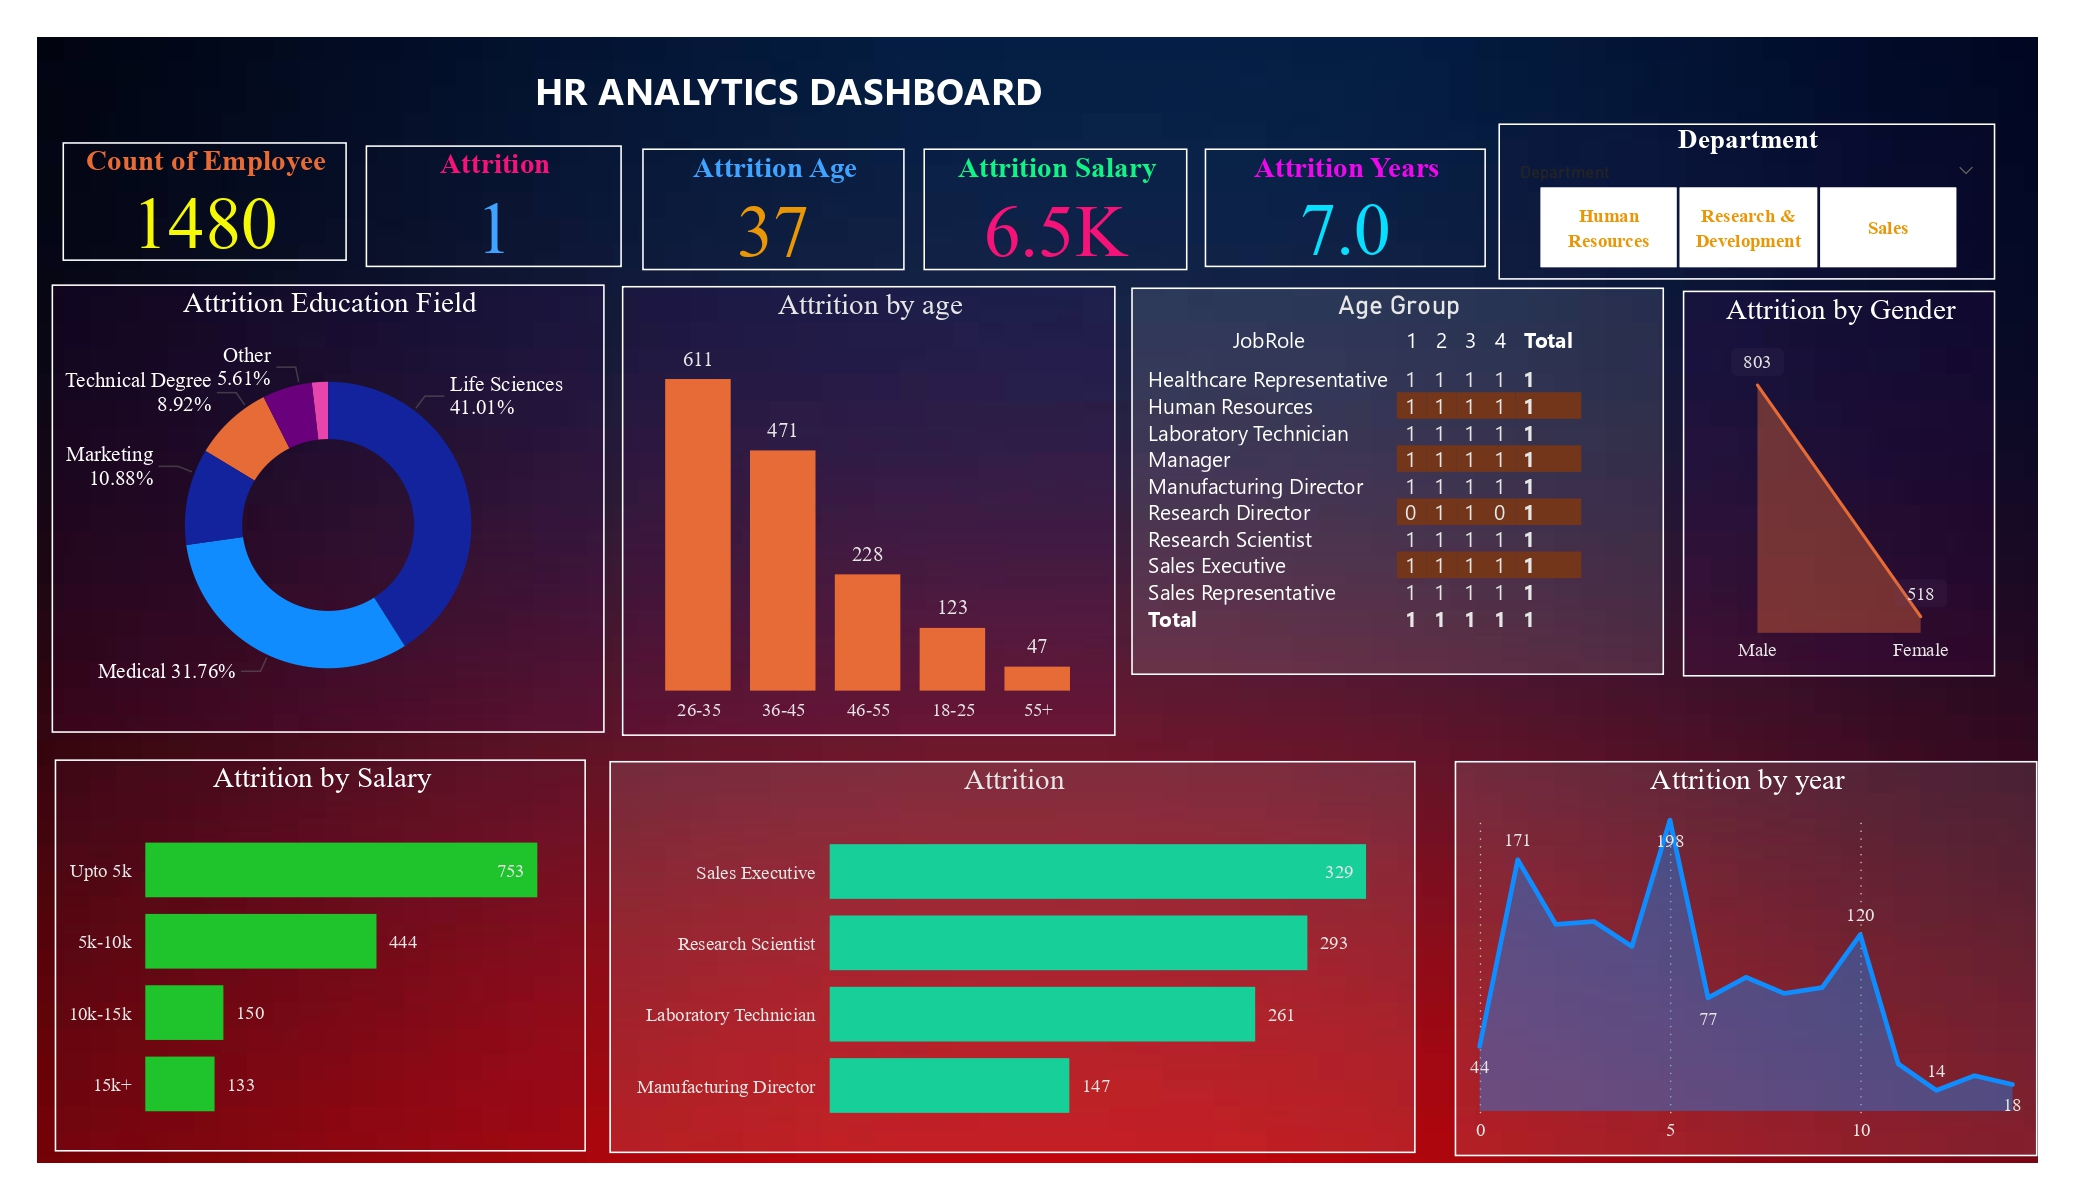

This screenshot's page, from the dashboard's own definition file:
{"tool":"powerbi","page":{"name":"Page 1","canvas":[1280,720],"ordinal":0},"visuals":[{"type":"card","title":"Count of Employee","fields":{"Values":["CountNonNull(HR_Analytics (3).EmpID)"]},"box":[15.9,66.5,182.2,76.6],"z":0},{"type":"card","title":"Attrition Age","fields":{"Values":["Avg(HR_Analytics.Age)"]},"box":[387.5,70.8,167.7,78.1],"z":1000},{"type":"card","title":"Attrition","fields":{"Values":["Max(HR_Analytics (3).Attrition Count)"]},"box":[209.6,69.4,164.8,78.1],"z":2000},{"type":"card","title":"Attrition Years","fields":{"Values":["Avg(HR_Analytics.YearsAtCompany)"]},"box":[747.5,70.8,179.3,76.6],"z":3000},{"type":"card","title":"Attrition Salary","fields":{"Values":["Avg(HR_Analytics.MonthlyIncome)"]},"box":[566.7,70.8,169.2,78.1],"z":4000},{"type":"donutChart","title":"Attrition Education Field","fields":{"Category":["HR_Analytics.EducationField"],"Y":["CountNonNull(HR_Analytics.Attrition Count)"]},"box":[8.7,157.6,354.2,287.7],"z":5000},{"type":"clusteredColumnChart","title":"Attrition by age","fields":{"Category":["HR_Analytics.AgeGroup"],"Y":["CountNonNull(HR_Analytics.Attrition Count)"]},"box":[374.5,159,315.2,287.7],"z":6000},{"type":"pivotTable","title":"Age Group","fields":{"Rows":["HR_Analytics.JobRole"],"Columns":["HR_Analytics.JobSatisfaction"],"Values":["Max(HR_Analytics.Attrition Count)"]},"box":[699.8,160.5,341.2,247.2],"z":7000},{"type":"barChart","title":"Attrition by Salary","fields":{"Category":["HR_Analytics.SalarySlab"],"Y":["CountNonNull(HR_Analytics.Attrition Count)"]},"box":[11,462.5,340,250.5],"z":8000},{"type":"barChart","title":"Attrition","fields":{"Y":["CountNonNull(HR_Analytics.Attrition Count)"],"Category":["HR_Analytics.JobRole"]},"box":[365.8,462.7,516.1,251.6],"z":9000},{"type":"areaChart","title":"Attrition by year","fields":{"Category":["HR_Analytics.YearsAtCompany"],"Y":["CountNonNull(HR_Analytics.Attrition Count)"]},"box":[907,463,373,253],"z":10000},{"type":"areaChart","title":"Attrition by Gender","fields":{"Y":["CountNonNull(HR_Analytics.Attrition Count)"],"Category":["HR_Analytics.Gender"]},"box":[1052.5,161.9,201,247.2],"z":11000},{"type":"slicer","title":"Department","fields":{"Values":["HR_Analytics.Department"]},"box":[935.4,54.9,318.1,99.8],"z":12000},{"type":"textbox","box":[59.3,11.6,837.1,43.4],"z":13000}]}

Visuals, with their boxes in screenshot pixels (x1, y1, x2, y2):
"Count of Employee" card: 47, 123, 338, 245
"Attrition Age" card: 641, 129, 909, 254
"Attrition" card: 357, 127, 620, 252
"Attrition Years" card: 1217, 129, 1503, 252
"Attrition Salary" card: 928, 129, 1198, 254
"Attrition Education Field" donutChart: 36, 268, 602, 728
"Attrition by age" clusteredColumnChart: 620, 270, 1124, 730
"Age Group" pivotTable: 1140, 273, 1686, 668
"Attrition by Salary" barChart: 39, 756, 583, 1156
"Attrition" barChart: 606, 756, 1431, 1158
"Attrition by year" areaChart: 1472, 756, 2068, 1161
"Attrition by Gender" areaChart: 1704, 275, 2026, 670
"Department" slicer: 1517, 104, 2026, 264
textbox: 116, 35, 1455, 104
